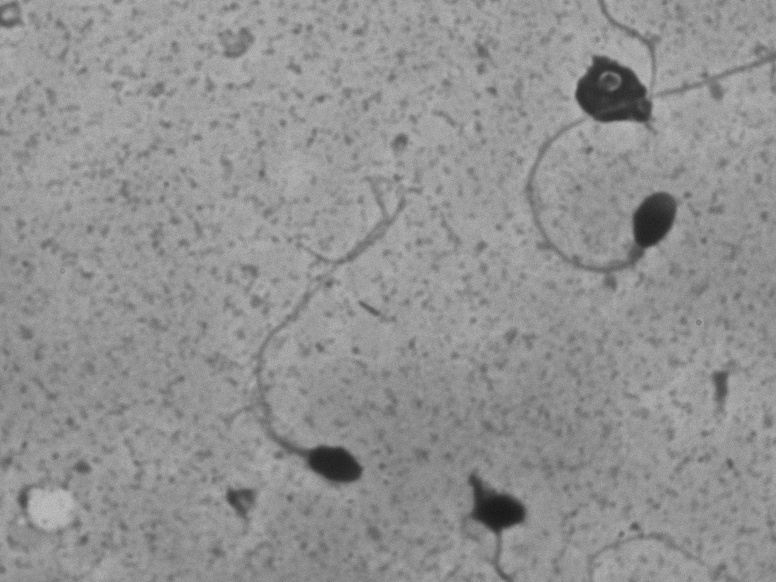Abnormal: (212, 282, 394, 496), (418, 443, 560, 572)
Normal: (504, 44, 775, 289)
